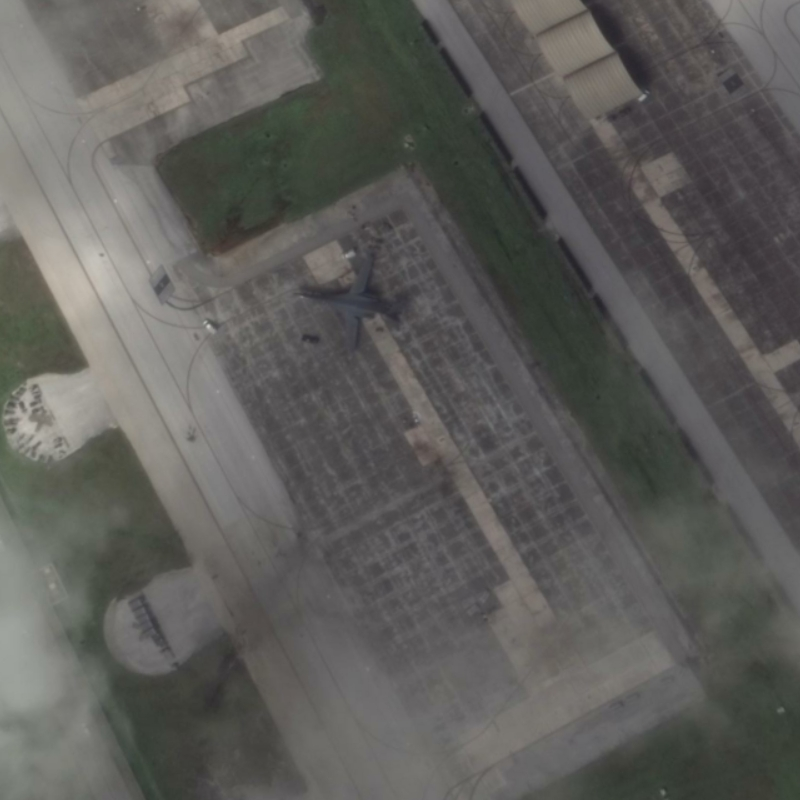A10: (289, 252, 412, 352)
